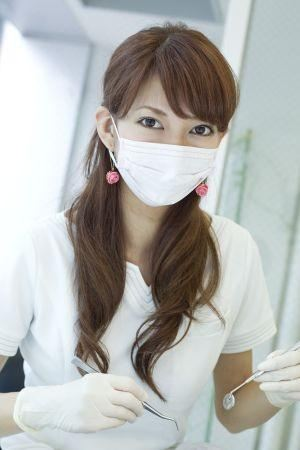mask: (110, 137, 219, 206)
